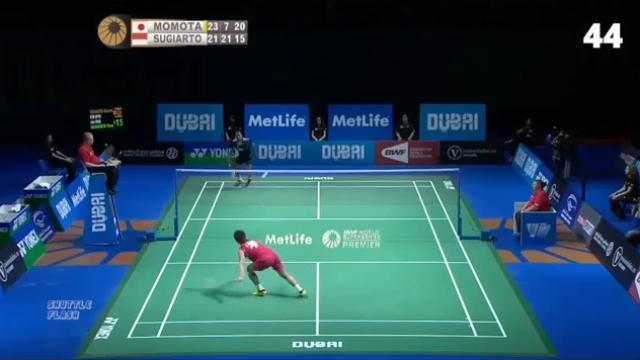Shuttlecock: (260, 170, 270, 182)
